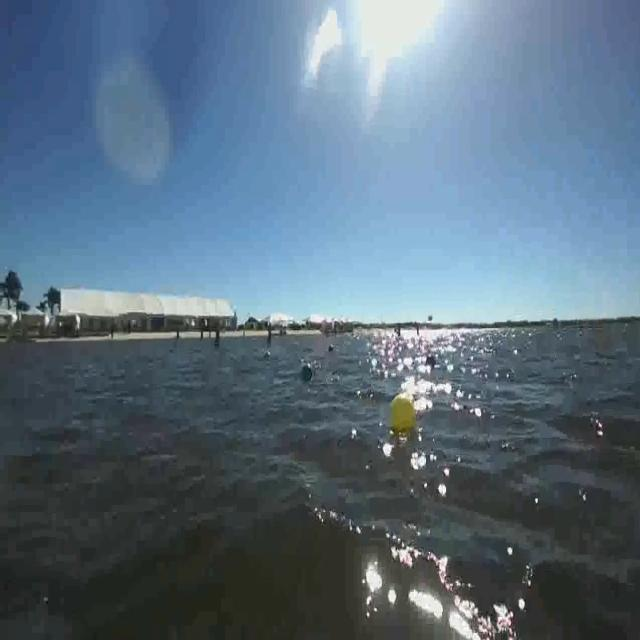yellow-buoy: (391, 391, 418, 433)
